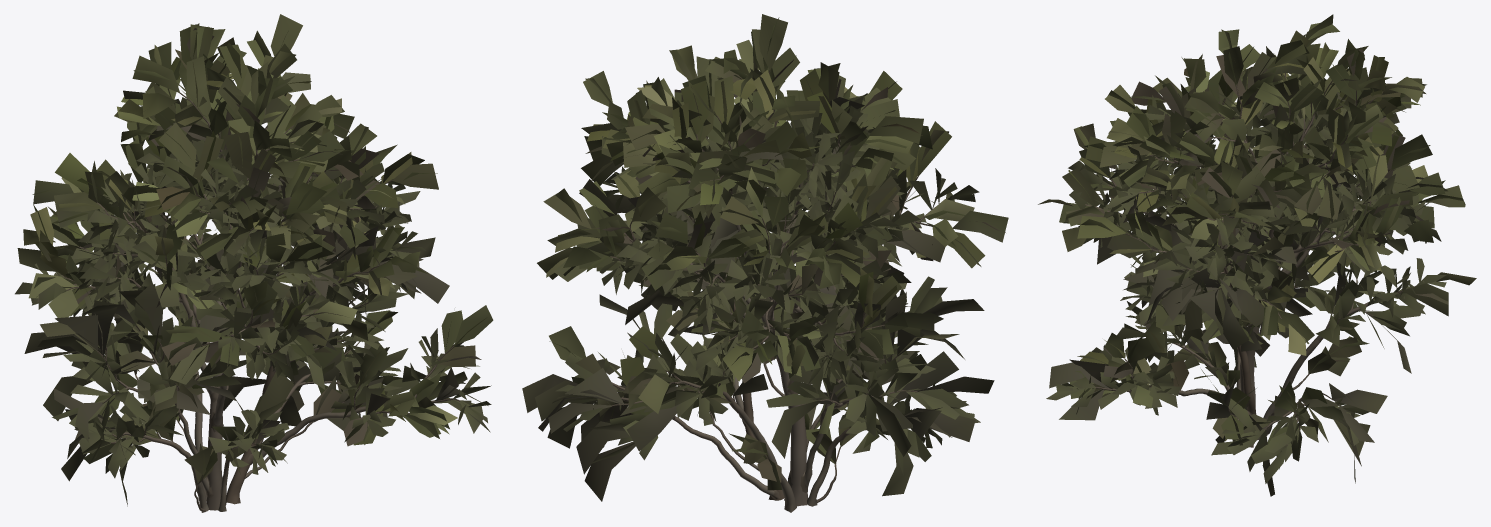
The model's file is SM_BlackAlder_Field_05_PP_LOD3.gltf.
3 views of the same model, side by side, from view 1: azimuth 30°, elevation 25°; view 2: azimuth 150°, elevation 25°; view 3: azimuth 270°, elevation 25° (orthographic). The views are drawn at different scales.
Visible parts, largest first — view 1: SM_BlackAlder_Field_05_PP; view 2: SM_BlackAlder_Field_05_PP; view 3: SM_BlackAlder_Field_05_PP.
Part boxes in pixels (x1=…): SM_BlackAlder_Field_05_PP: x1=15, y1=14, x2=493, y2=512; SM_BlackAlder_Field_05_PP: x1=522, y1=14, x2=1008, y2=512; SM_BlackAlder_Field_05_PP: x1=1038, y1=14, x2=1476, y2=496.
Bounding box in the file's own units: 6.74 × 7.44 × 7.01.
Materials: 3 (3 with a texture image).
